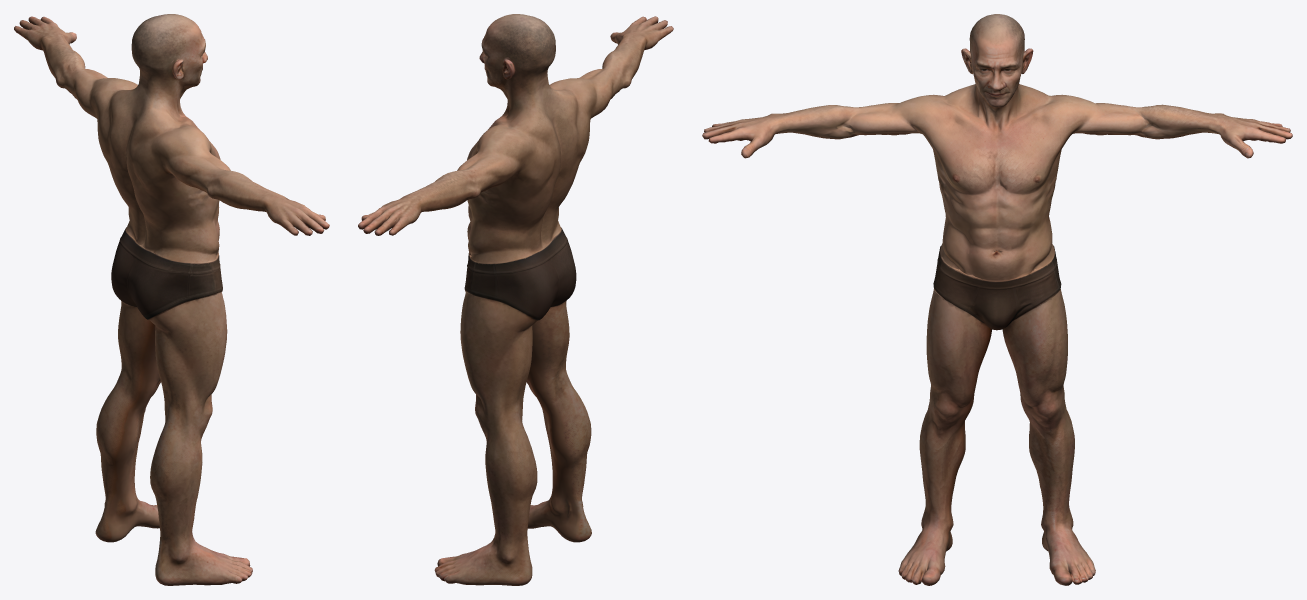
The picture shows the model from 3 angles, left to right: view 1: azimuth 30°, elevation 25°; view 2: azimuth 150°, elevation 25°; view 3: azimuth 270°, elevation 25°; orthographic projection.
Visible parts, largest first — view 1: tripo_node_7607473e-81b3-4411-935f-0f240804a7d8; view 2: tripo_node_7607473e-81b3-4411-935f-0f240804a7d8; view 3: tripo_node_7607473e-81b3-4411-935f-0f240804a7d8.
Part boxes in pixels (x1,y1,x2,y2): tripo_node_7607473e-81b3-4411-935f-0f240804a7d8: [14, 14, 329, 585]; tripo_node_7607473e-81b3-4411-935f-0f240804a7d8: [358, 14, 673, 585]; tripo_node_7607473e-81b3-4411-935f-0f240804a7d8: [702, 14, 1292, 585].
Size of the model in its own units: 0.1806 by 0.9791 by 0.9586.
1 material, 1 textured.
